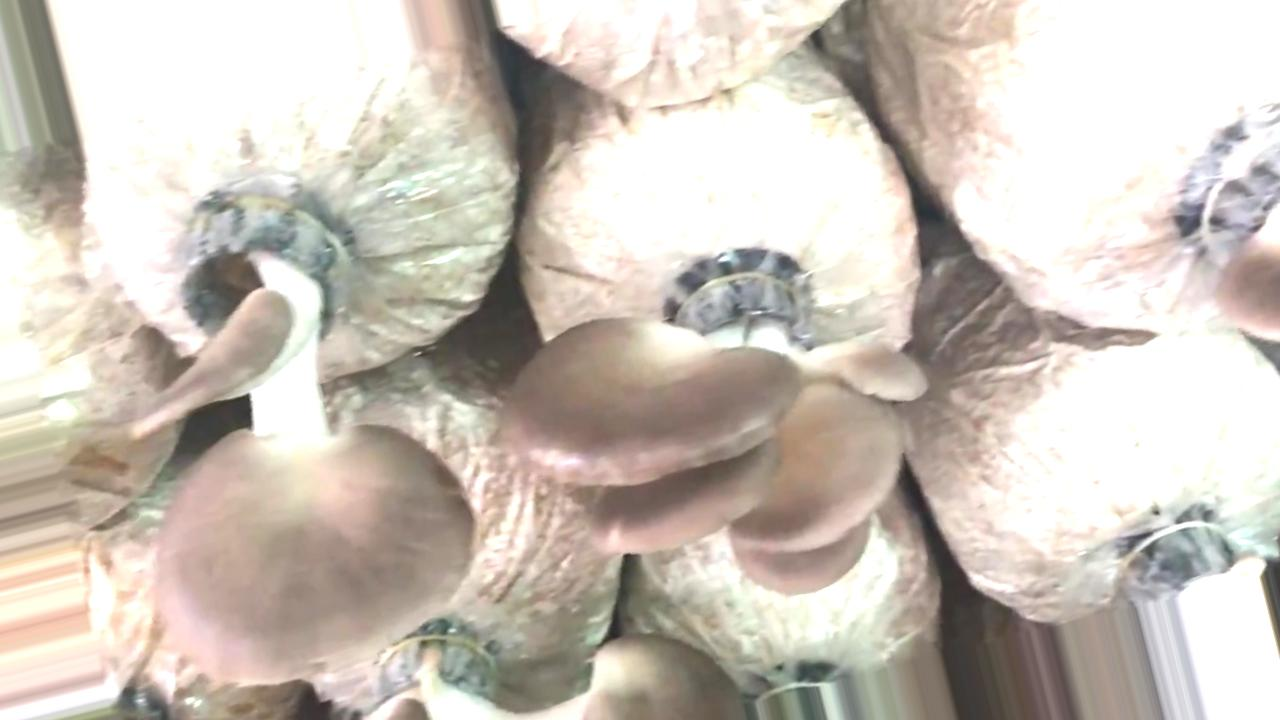nam: (132, 182, 480, 687), (496, 249, 935, 598)
